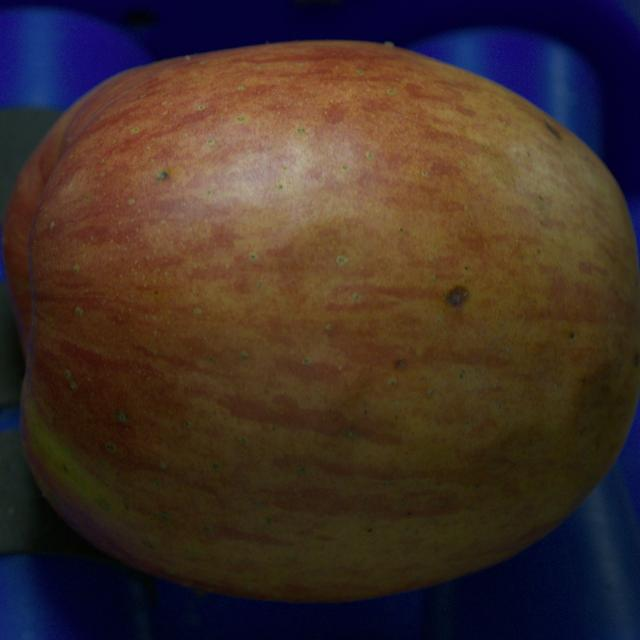apple: (4, 41, 639, 601)
pest: (446, 286, 469, 307), (545, 122, 561, 139), (157, 171, 168, 180), (396, 359, 405, 368)
